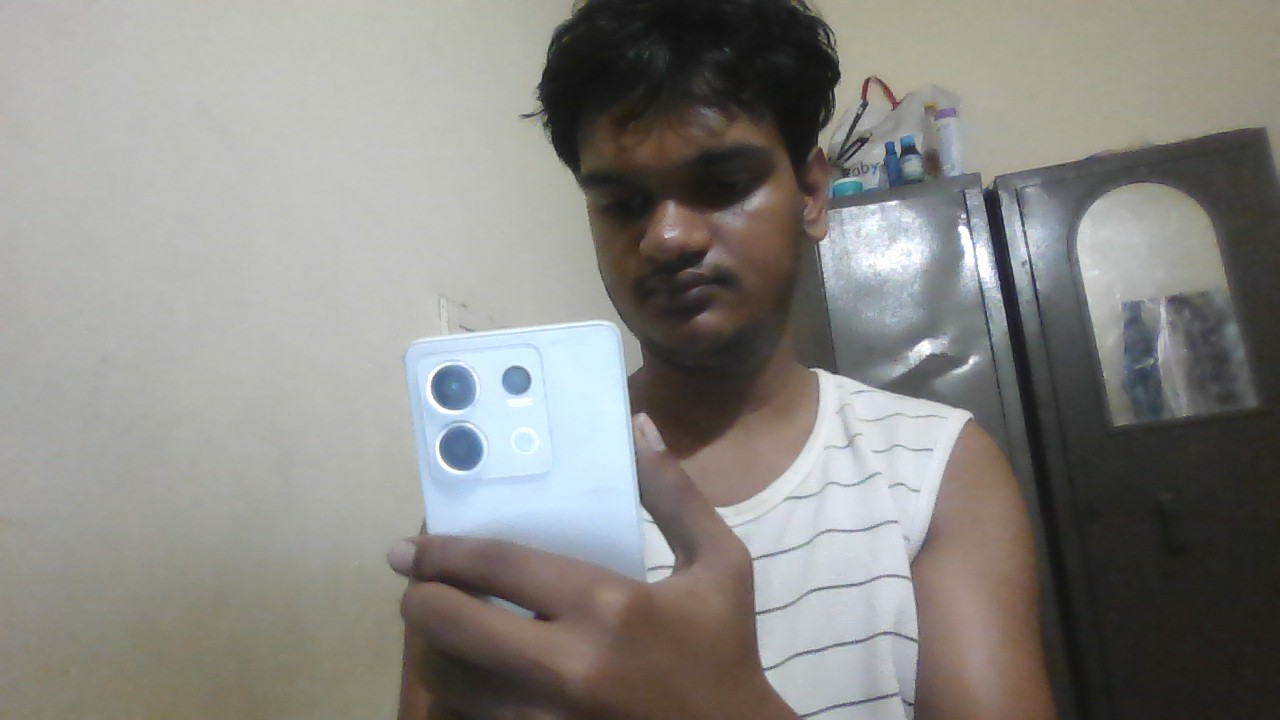phone: (408, 325, 640, 537)
